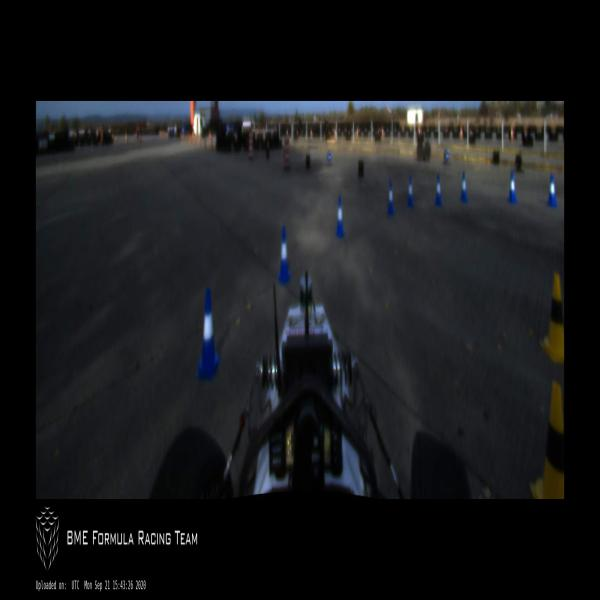blue_cone: (195, 287, 220, 380), (278, 225, 291, 286), (334, 195, 345, 236), (386, 180, 395, 215), (507, 172, 517, 203), (548, 174, 556, 208), (434, 173, 442, 206), (460, 171, 468, 203), (407, 176, 415, 206)
yellow_cone: (530, 382, 564, 498), (539, 274, 564, 364)
